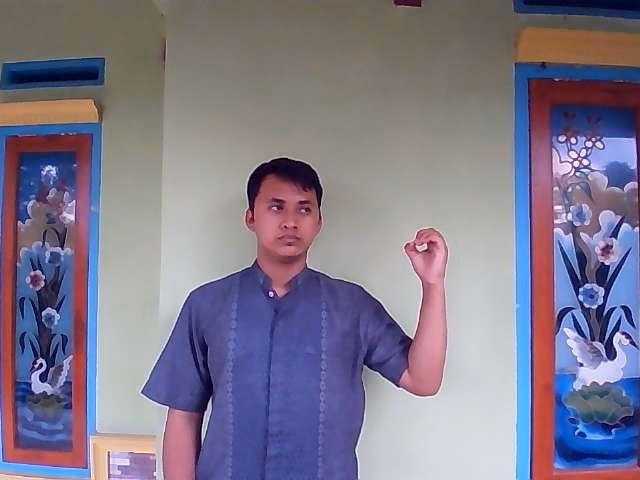O: (402, 225, 454, 295)
